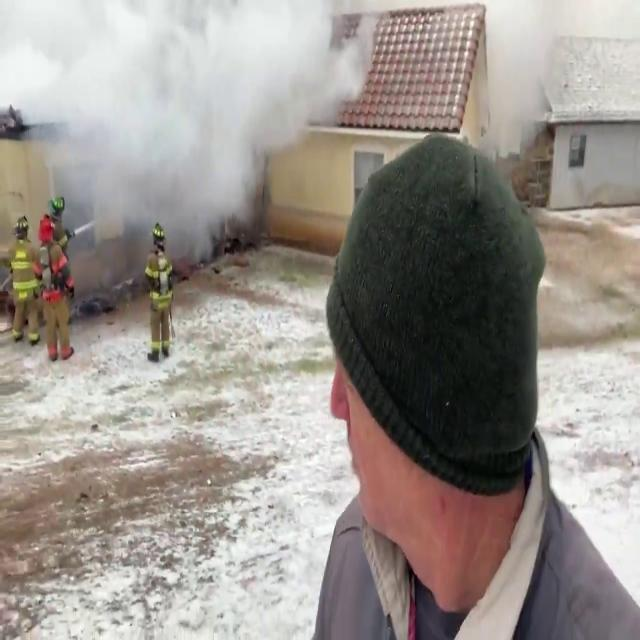Smoke: (32, 0, 350, 287)
